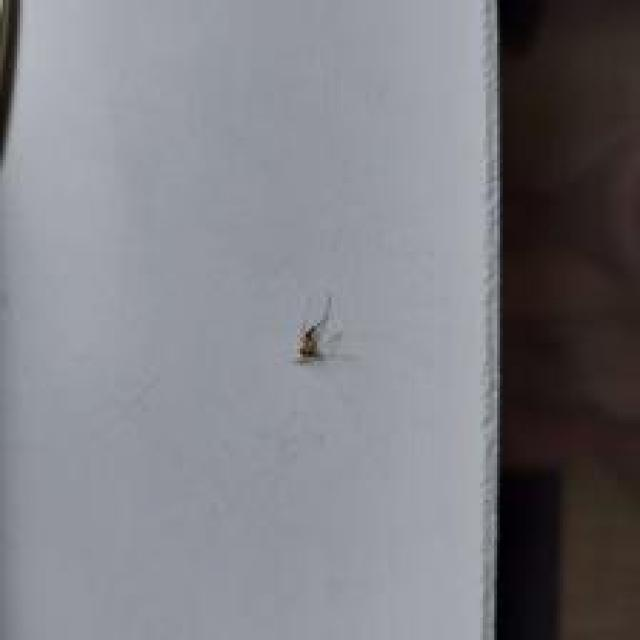Culex: (294, 294, 334, 363)
